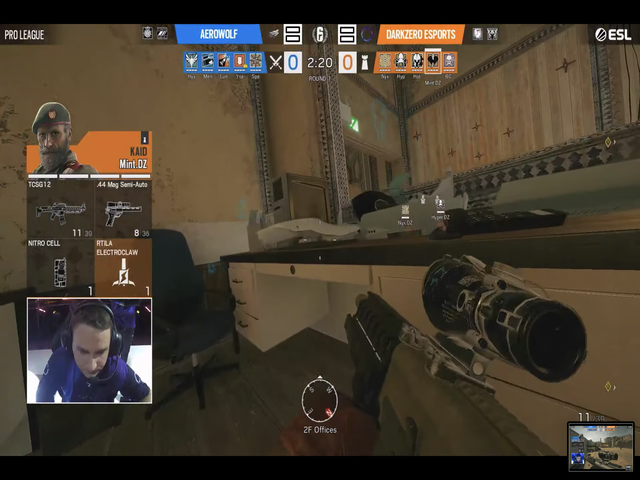0_blue: (283, 50, 303, 74)
